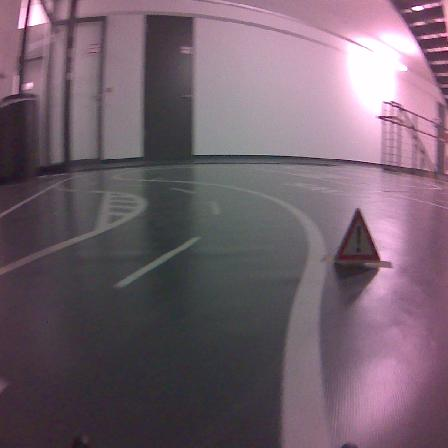ATTENTION: (335, 208, 379, 261)
